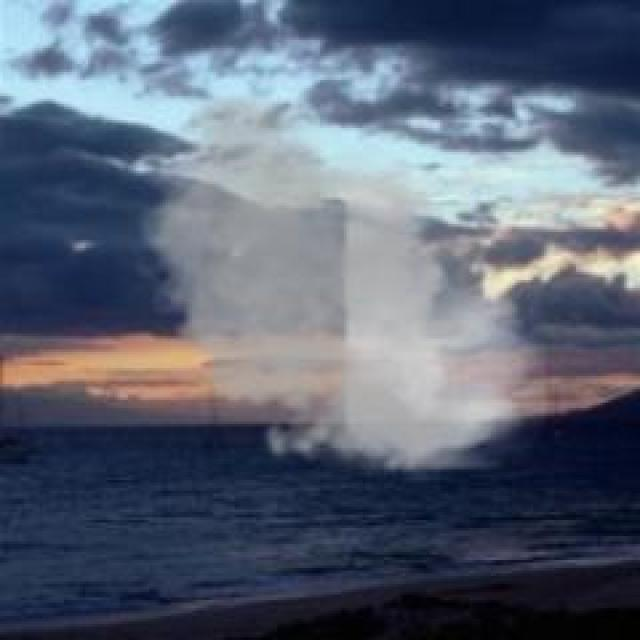Smoke: (143, 92, 550, 479)
